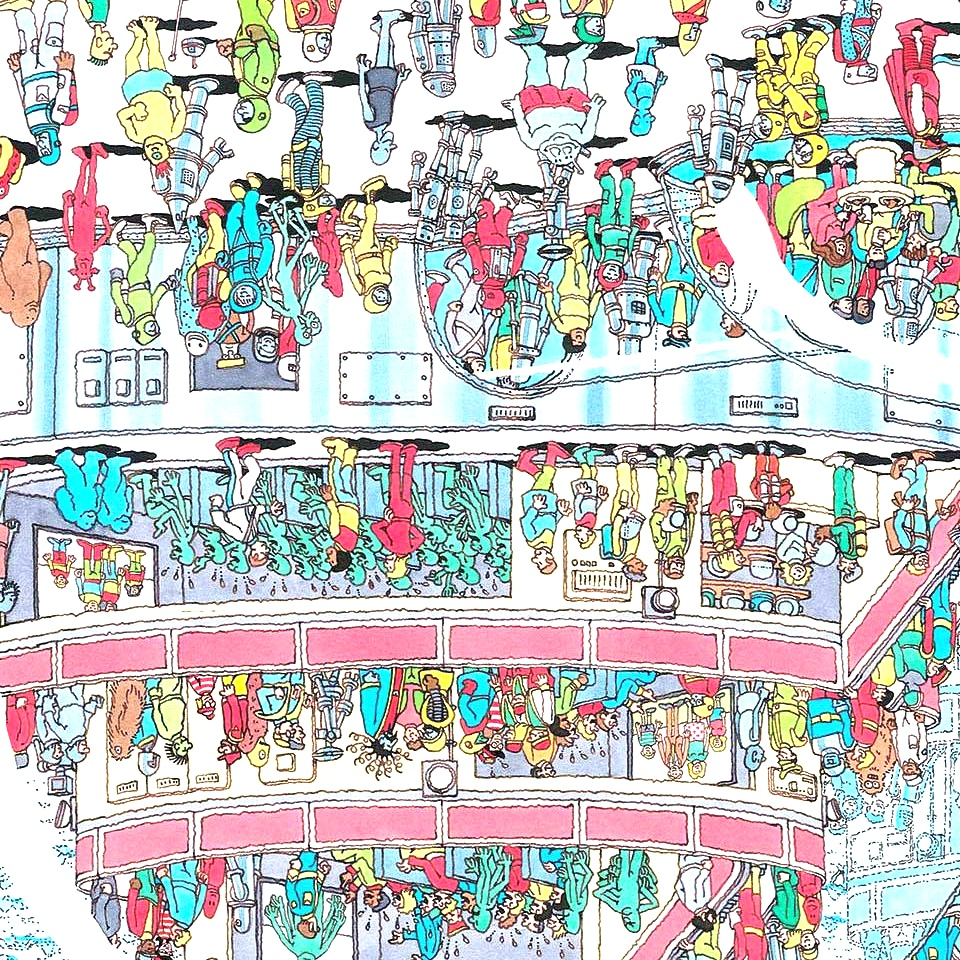waldo: (484, 733, 506, 764)
